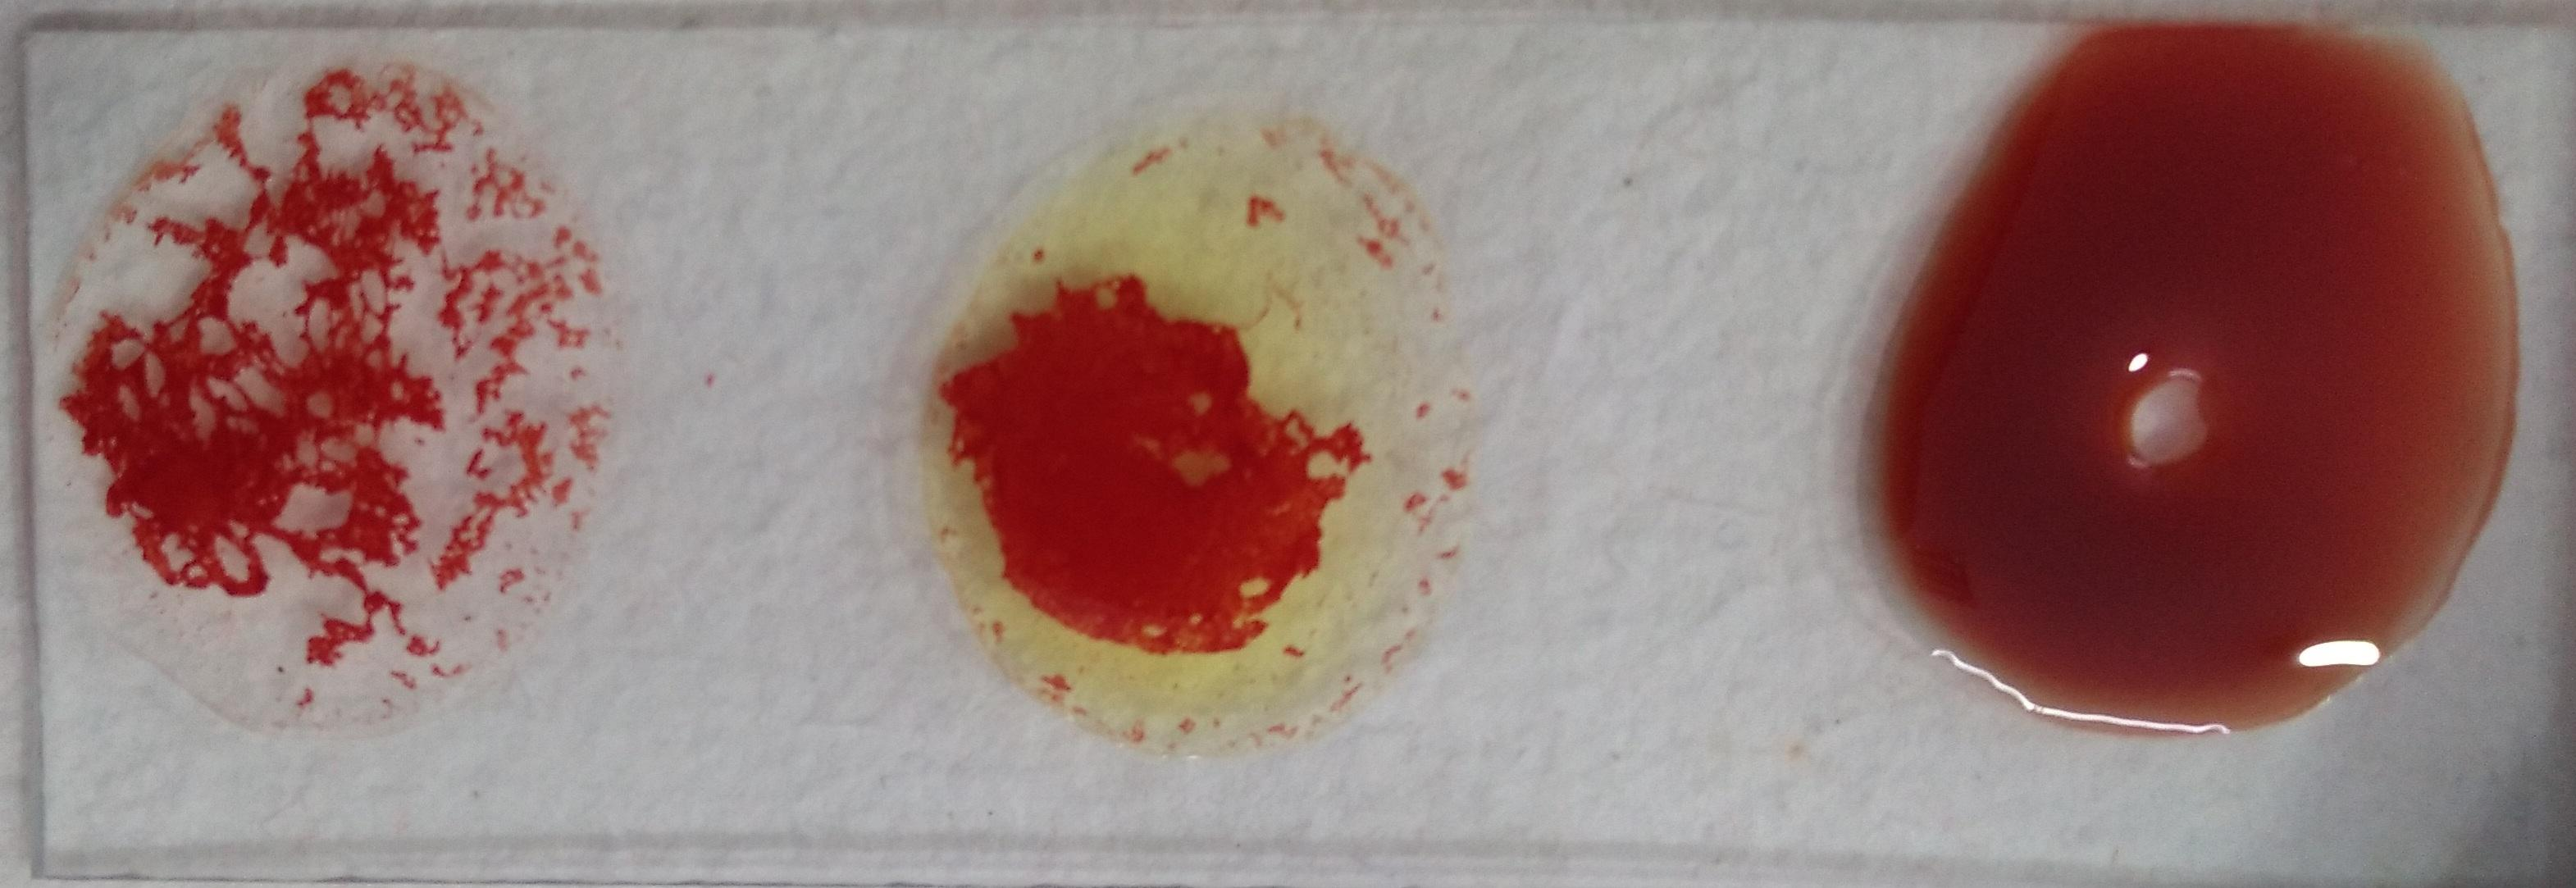B: (930, 98, 1474, 763)
D: (61, 57, 623, 739)
